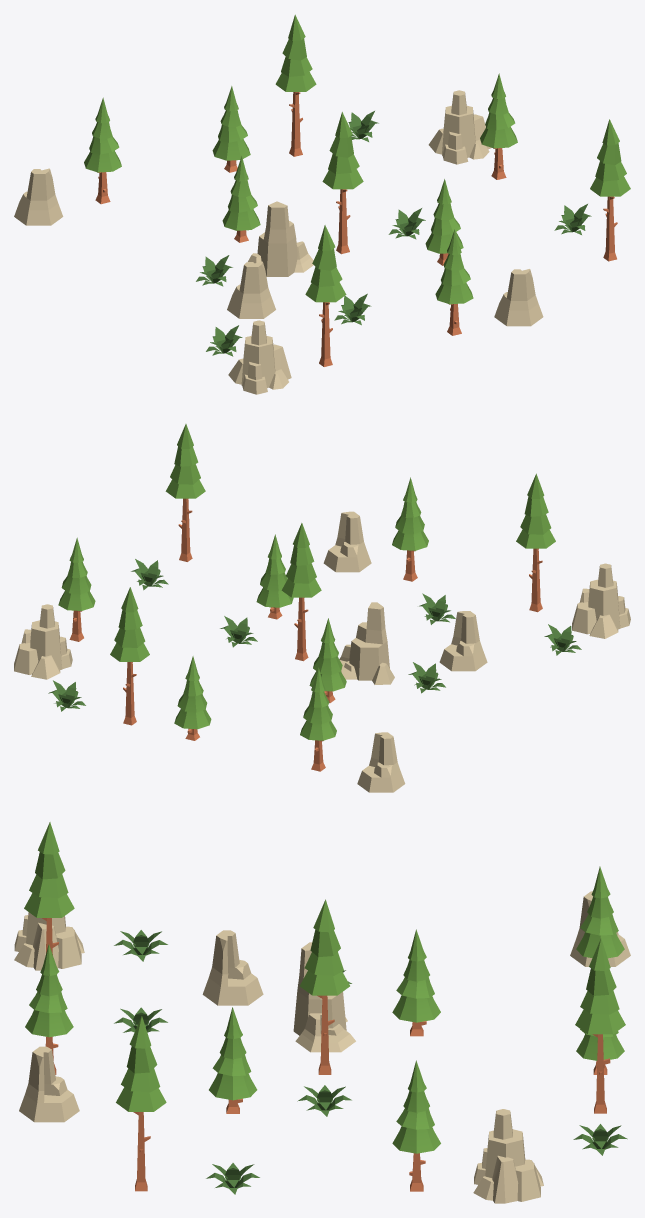
File: petit_bois_et_amas_rocheux.glb
3 views of the same model, one above another, from view 1: azimuth 30°, elevation 25°; view 2: azimuth 150°, elevation 25°; view 3: azimuth 270°, elevation 25° (orthographic). The views are drawn at different scales.
Visible parts, largest first — view 1: mergedBlocks(Clone); view 2: mergedBlocks(Clone); view 3: mergedBlocks(Clone).
Boxes of the visible parts, <box> form: mergedBlocks(Clone): <box>14,14,630,394</box>; mergedBlocks(Clone): <box>14,424,630,792</box>; mergedBlocks(Clone): <box>14,822,630,1203</box>.
Bounding box in the file's own units: 6.76 × 2.08 × 6.72.
1 material, 1 textured.
